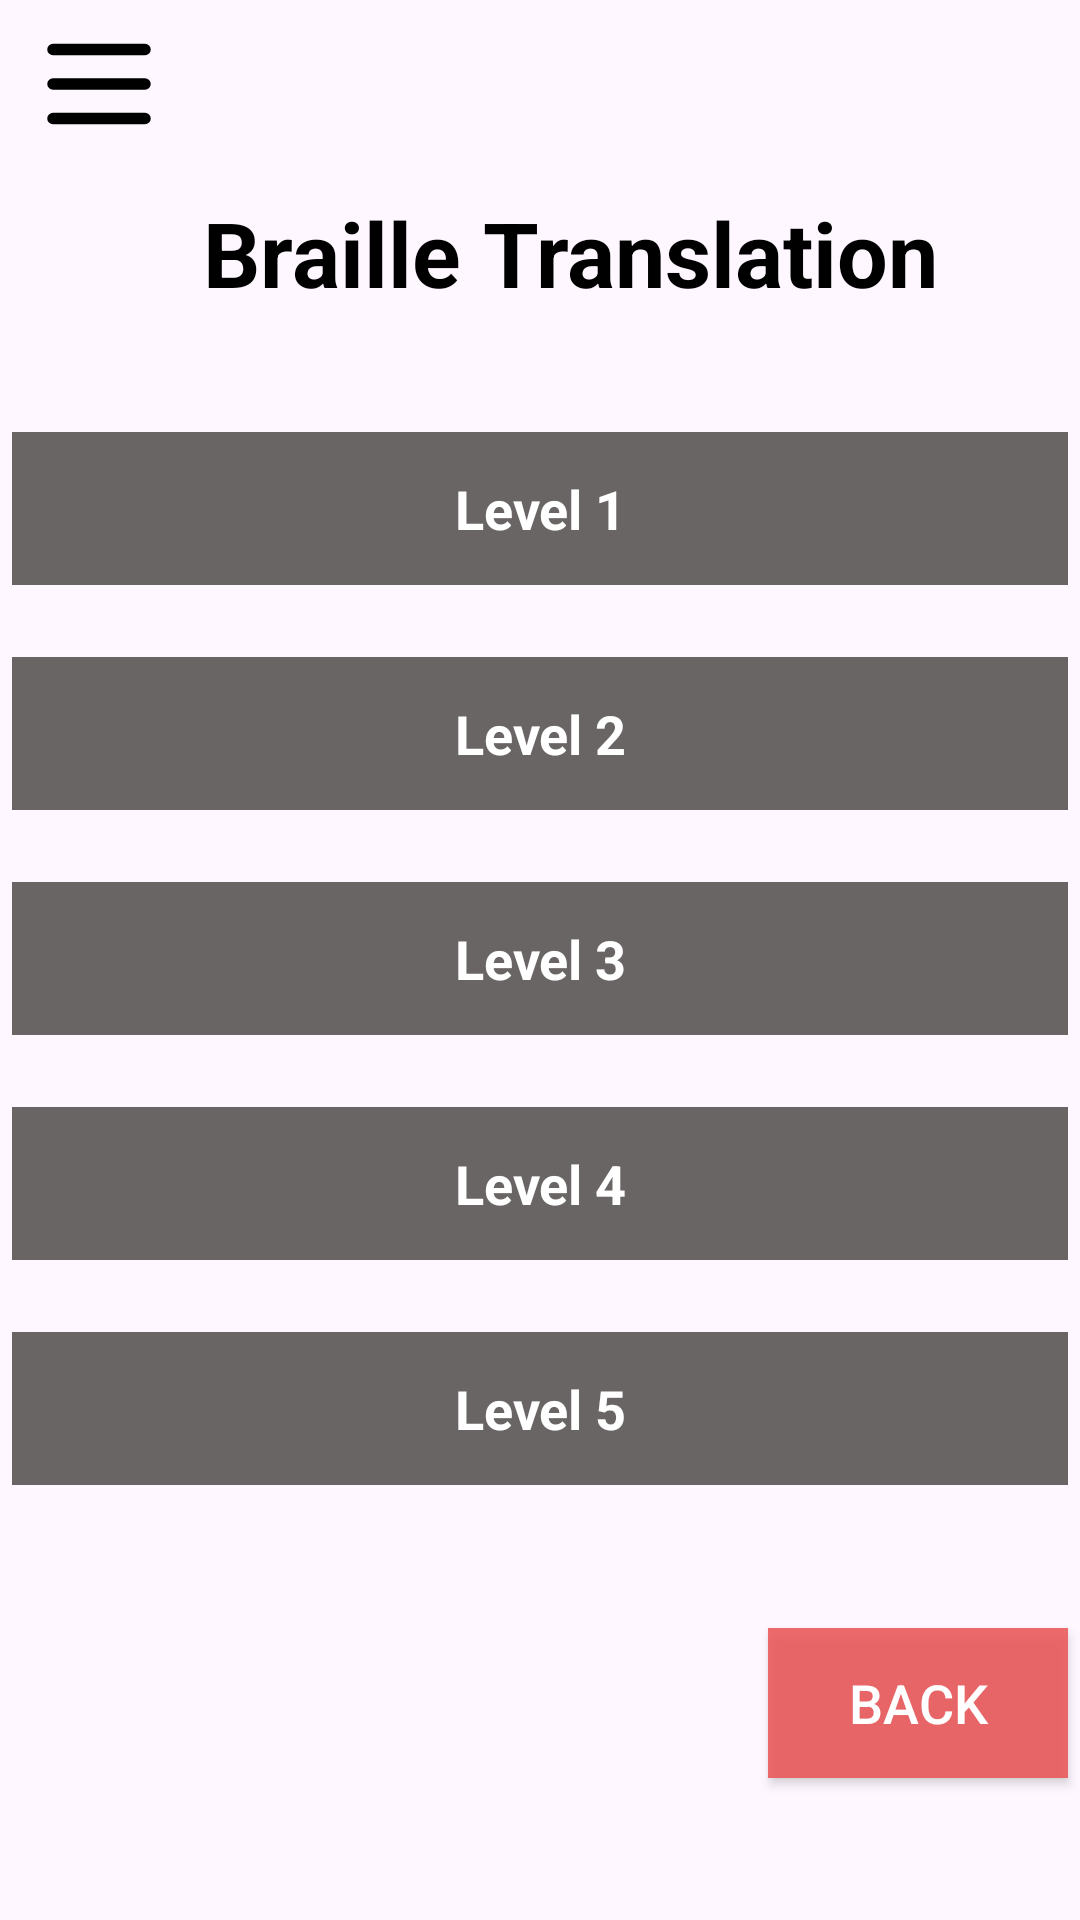

Point at icon controls on the screen. Image size 1080 x 1920, points as (x,y).
menu: (99,84)
